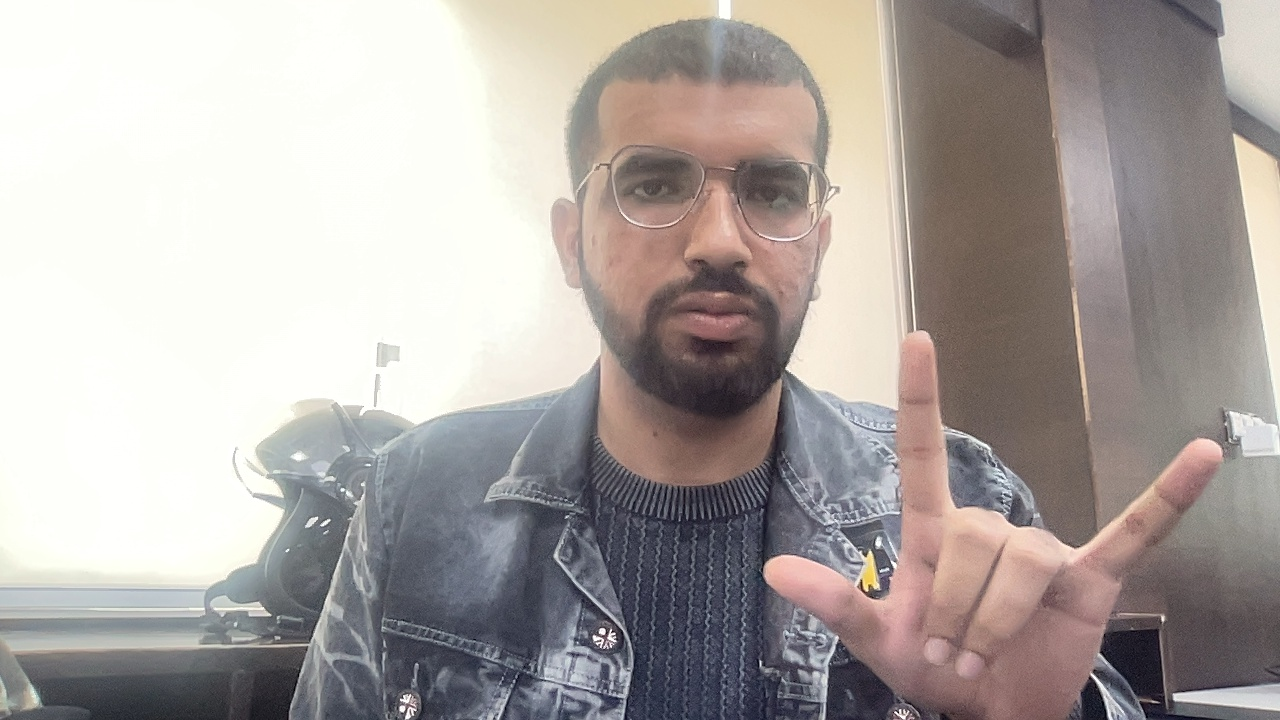I Love You: (739, 316, 1244, 701)
